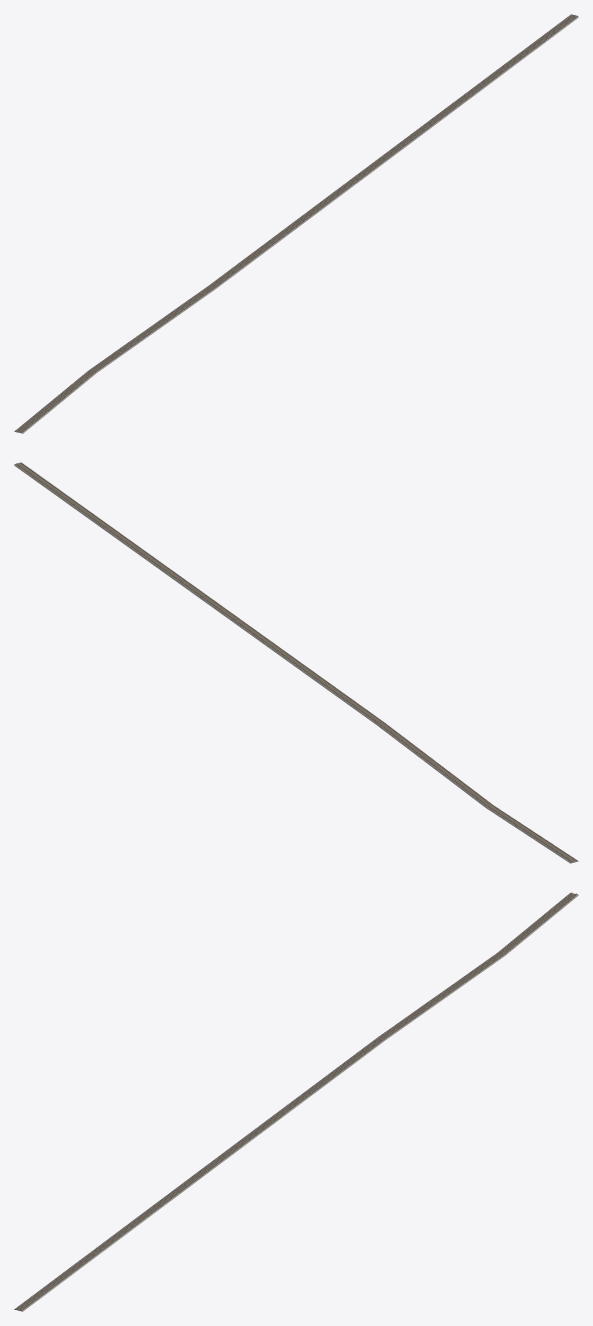
The model's file is rail_01187.glb.
3 views of the same model, one above another, from view 1: azimuth 90°, elevation 25°; view 2: azimuth 150°, elevation 25°; view 3: azimuth 270°, elevation 25° (orthographic). The views are drawn at different scales.
Parts seen in each view (by area): view 1: Sleepers, Ballast, Rails; view 2: Sleepers, Ballast, Rails; view 3: Sleepers, Ballast, Rails.
Part boxes in pixels (bbox=[...]): Sleepers: bbox=[15, 14, 577, 432]; Ballast: bbox=[14, 15, 578, 433]; Rails: bbox=[16, 14, 576, 431]; Sleepers: bbox=[14, 462, 577, 862]; Ballast: bbox=[14, 463, 578, 863]; Rails: bbox=[16, 462, 576, 861]; Sleepers: bbox=[15, 893, 577, 1310]; Ballast: bbox=[14, 893, 578, 1311]; Rails: bbox=[16, 892, 576, 1309].
Bounding box in the file's own units: 285 × 0.48 × 163.
